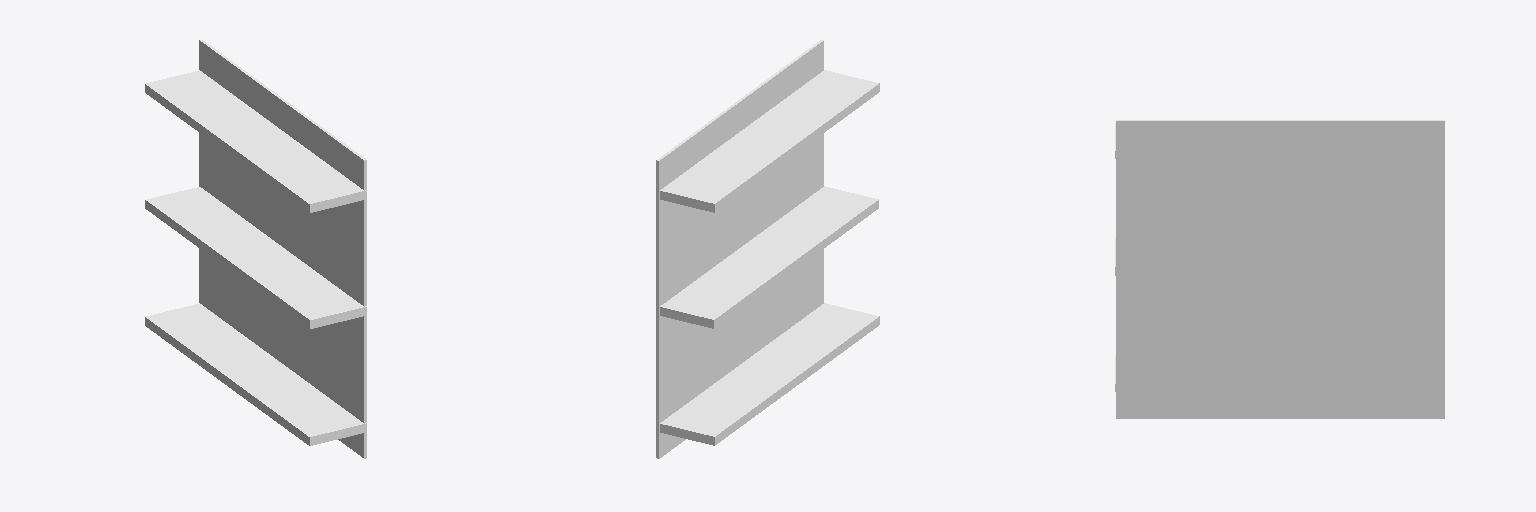
File: shelf.obj
The picture shows the model from 3 angles: view 1: azimuth 30°, elevation 25°; view 2: azimuth 150°, elevation 25°; view 3: azimuth 270°, elevation 25°; orthographic projection.
Visible parts, largest first — view 1: shelf; view 2: shelf; view 3: shelf.
Boxes of the visible parts, x1=… form: shelf: x1=145, y1=40, x2=366, y2=458; shelf: x1=656, y1=40, x2=879, y2=458; shelf: x1=1115, y1=120, x2=1444, y2=418.
Bounding box in the file's own units: 2.03 × 9.98 × 10.03.